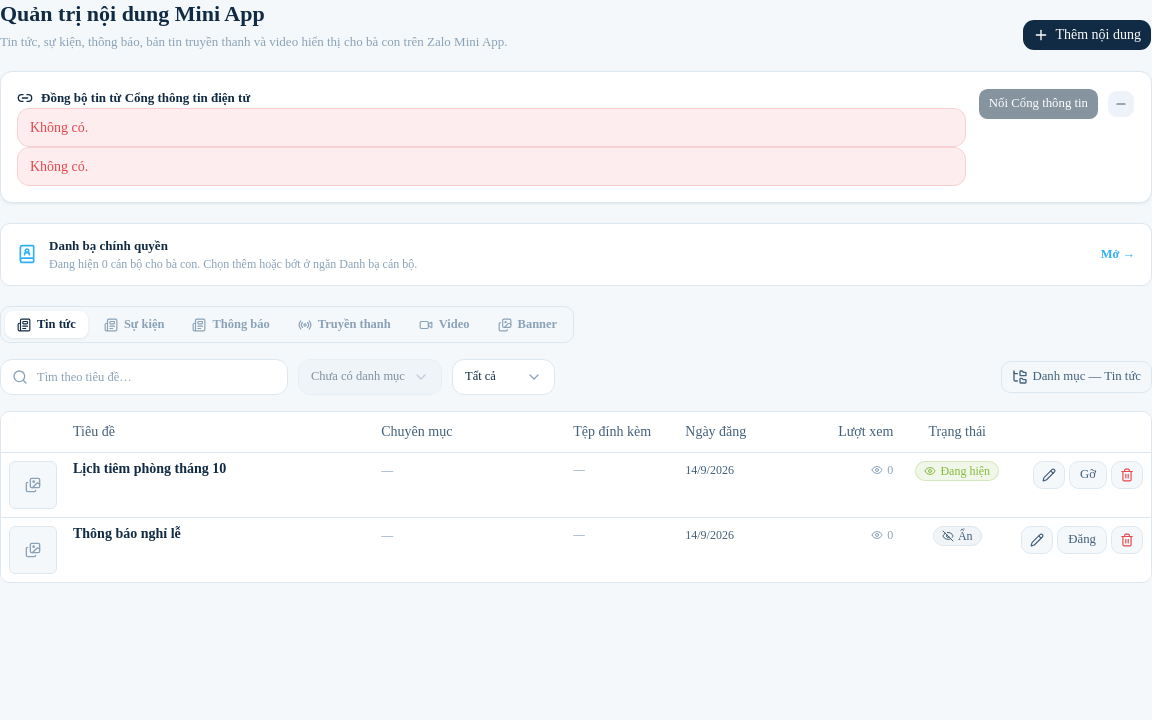
it: Thêm nội dung › Lưu with an empty title: `Vui lòng nhập tiêu đề` under the box, nothing sent
Click the button "Thêm nội dung": (1087, 35) left=1022, top=19, right=1151, bottom=51
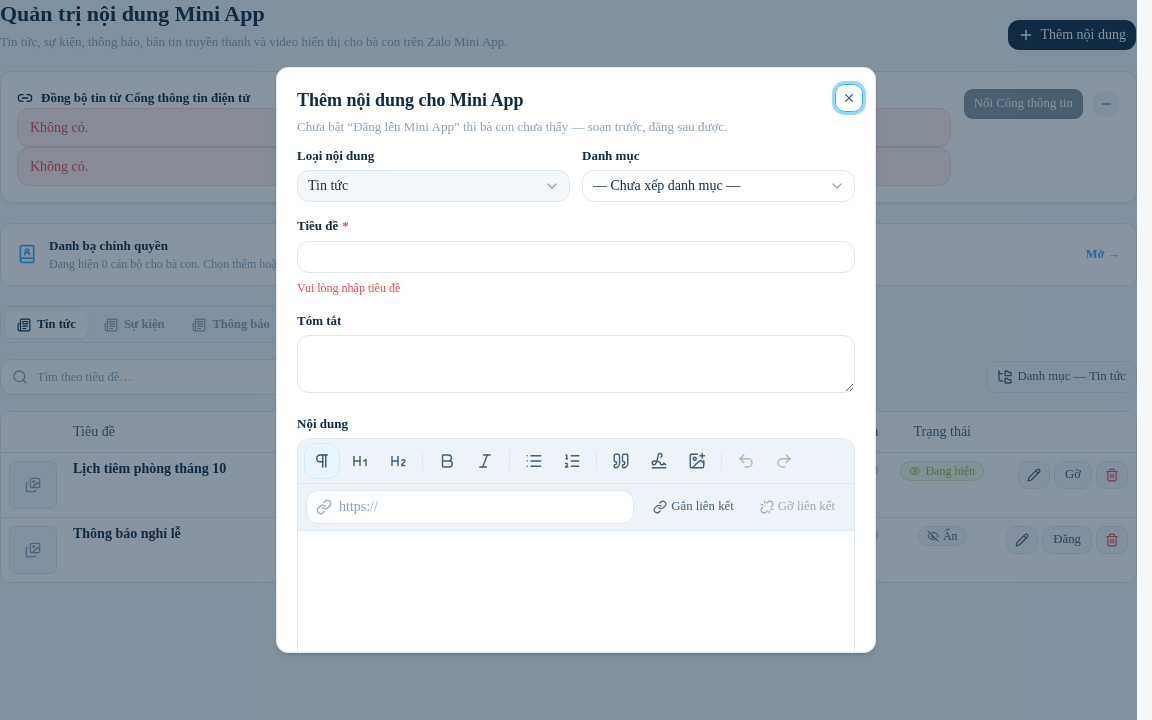
Result: the dialog shows "Vui lòng nhập tiêu đề" at left=297, top=281, right=400, bottom=295
